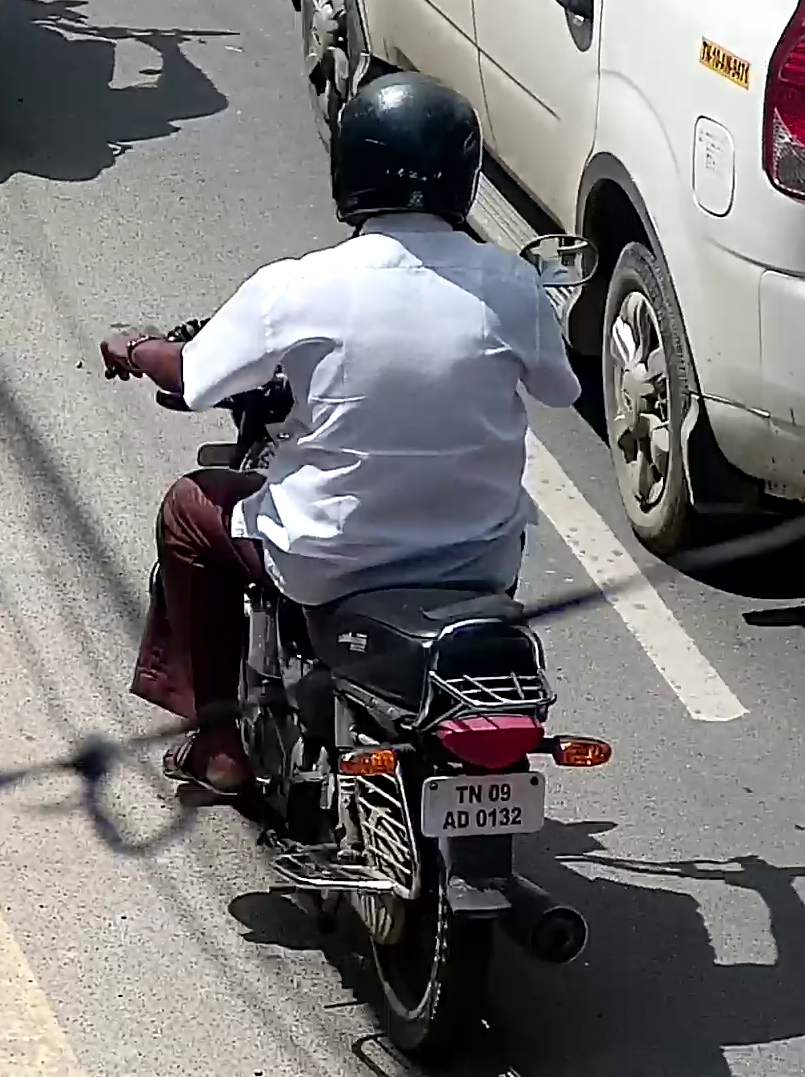0: (488, 783, 500, 802), (475, 809, 487, 828)
1: (487, 808, 497, 827)
2: (510, 806, 522, 826)
3: (498, 807, 510, 826)
9: (500, 783, 511, 802)
A: (442, 811, 456, 830)
D: (456, 810, 470, 830)
N: (468, 783, 482, 804)
P16: (418, 769, 547, 839)
T: (455, 785, 468, 804)
